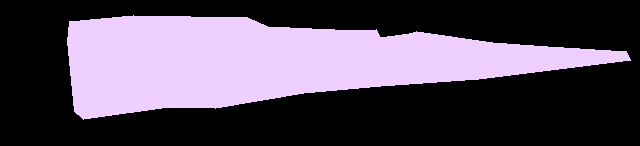Train: (67, 15, 630, 120)
